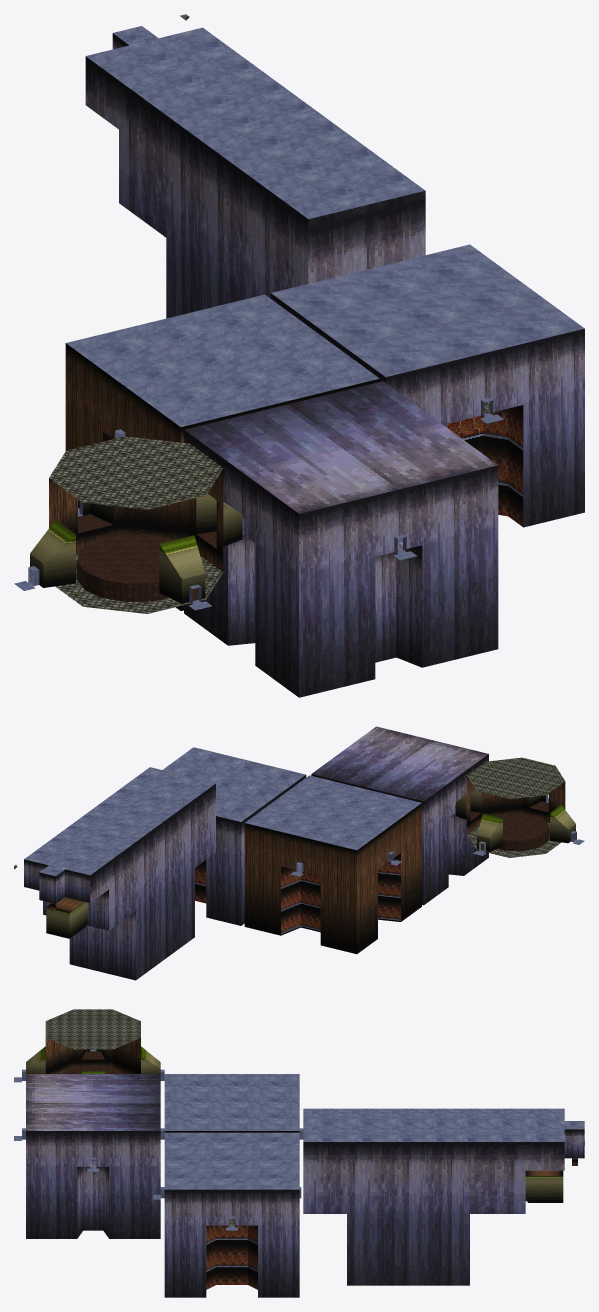
The model's file is ex_l_map_all.obj.
The picture shows the model from 3 angles, top to bottom: view 1: azimuth 30°, elevation 25°; view 2: azimuth 150°, elevation 25°; view 3: azimuth 270°, elevation 25°; orthographic projection. The views are drawn at different scales.
Visible parts, largest first — view 1: r1, r4, r3, r2, r0; view 2: r4, r2, r1, r0, r3; view 3: r4, r1, r3, r2, r0.
Part boxes in pixels (bbox=[...]): r1: bbox=[184, 381, 498, 697]; r4: bbox=[85, 26, 425, 318]; r3: bbox=[270, 244, 584, 527]; r2: bbox=[65, 294, 379, 610]; r0: bbox=[14, 14, 242, 613]; r4: bbox=[24, 767, 215, 980]; r2: bbox=[244, 775, 421, 954]; r1: bbox=[311, 726, 488, 905]; r0: bbox=[14, 757, 584, 869]; r3: bbox=[162, 747, 306, 925]; r4: bbox=[303, 1108, 584, 1285]; r1: bbox=[14, 1074, 162, 1238]; r3: bbox=[152, 1132, 301, 1297]; r2: bbox=[162, 1074, 303, 1139]; r0: bbox=[14, 1009, 584, 1145].
Size of the model in its own units: 11 by 4.01 by 14.4.
